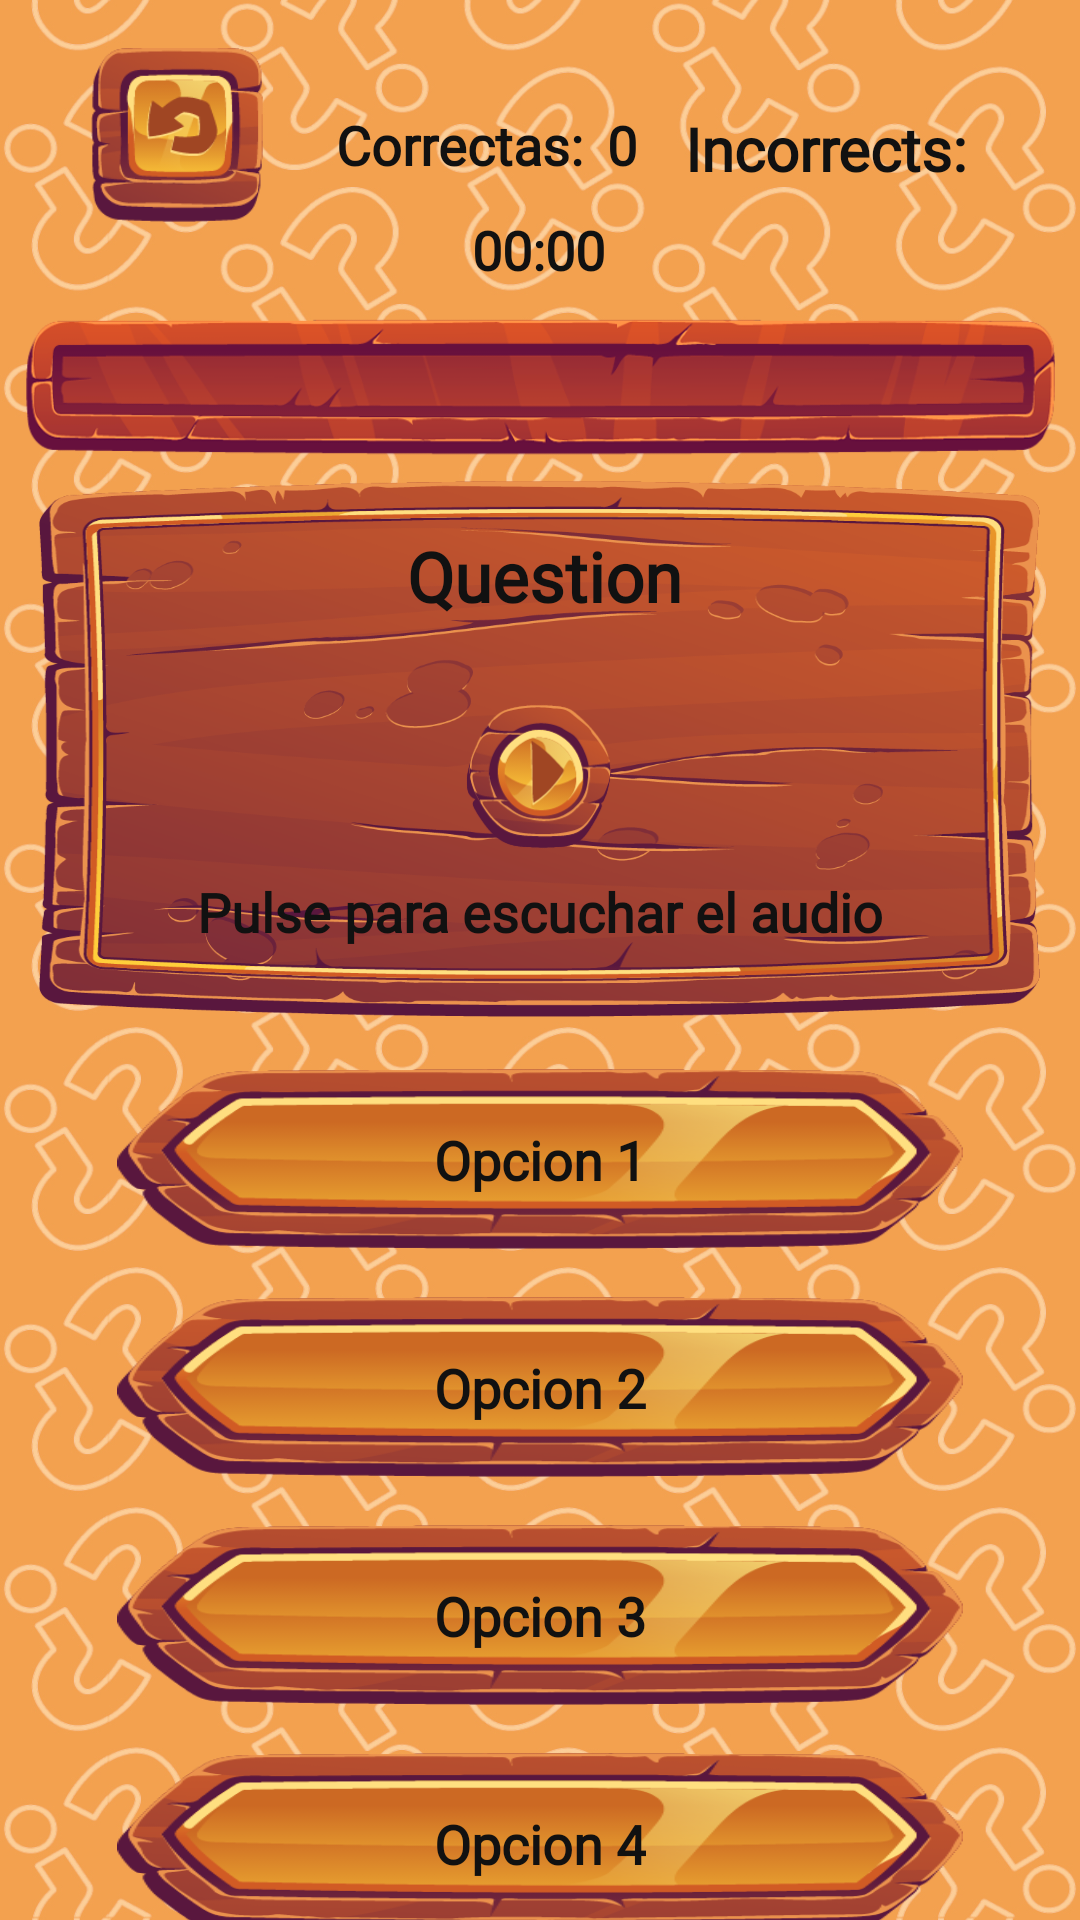

Icon click points for this 1080×1920 phone screenshot, format point (x, y):
regreso: point (177, 135)
